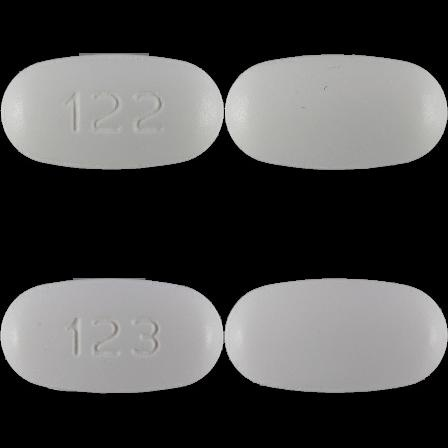67877-295: (0, 0, 224, 224)
